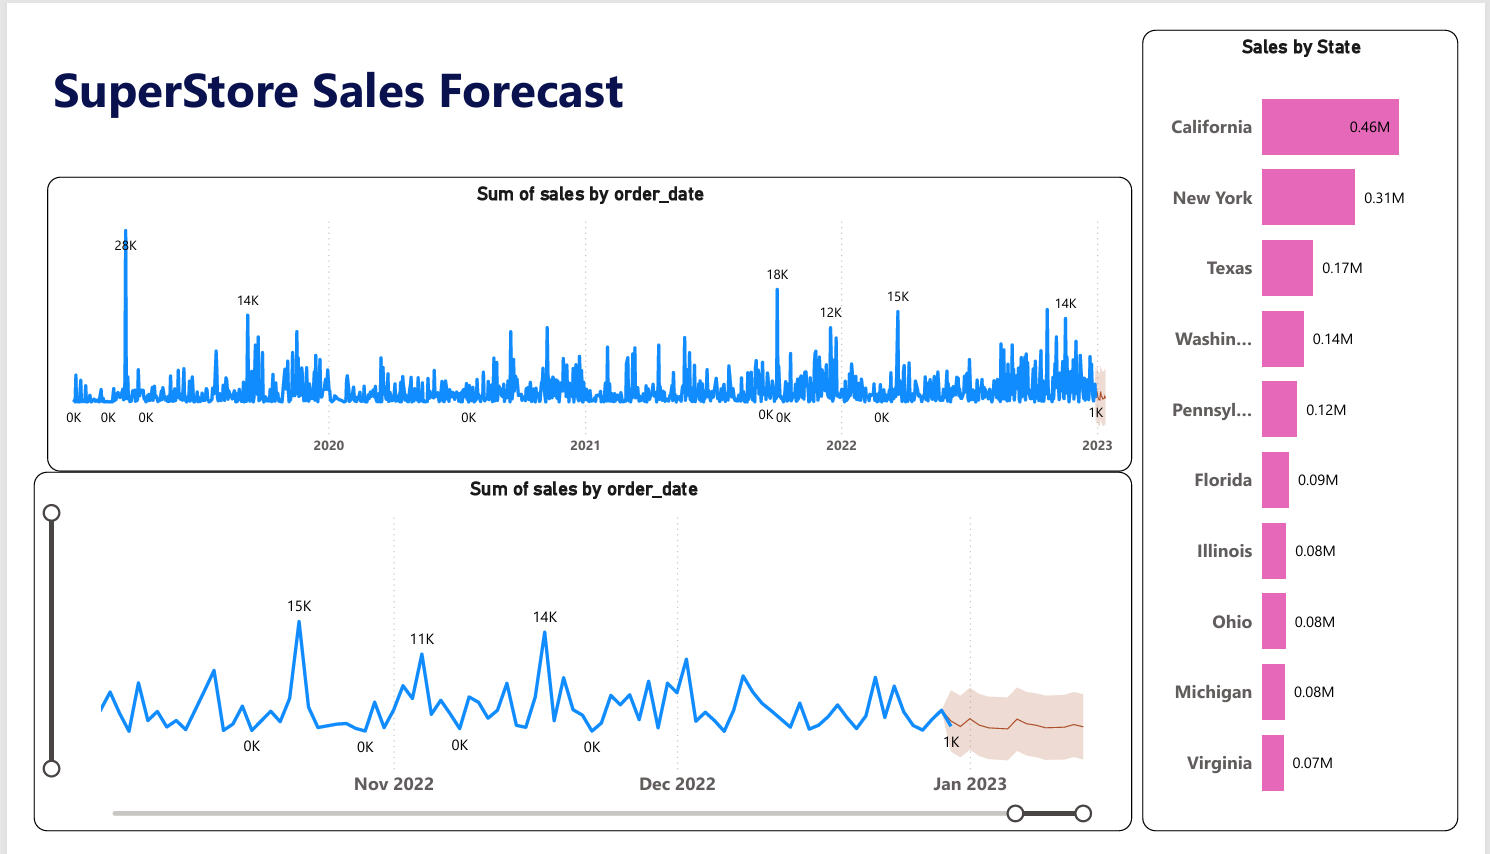

What the dashboard file says about the page in this screenshot:
{"tool":"powerbi","page":{"name":"Page 2","canvas":[1280,720],"ordinal":1},"visuals":[{"type":"lineChart","fields":{"Y":["Sum(superstore sales dataset.sales)"],"Category":["superstore sales dataset.order_date"]},"box":[12.3,131.7,974.3,264.8],"z":0},{"type":"lineChart","fields":{"Y":["Sum(superstore sales dataset.sales)"],"Category":["superstore sales dataset.order_date"]},"box":[0,396.6,986.6,323.8],"z":1000},{"type":"clusteredBarChart","title":"Sales by State","fields":{"Category":["superstore sales dataset.state"],"Y":["Sum(superstore sales dataset.sales)"]},"box":[996.2,0,284,720.4],"z":2000},{"type":"textbox","box":[12.3,17.8,946.8,83.7],"z":3000}]}

Visuals, with their boxes in screenshot pixels (x1, y1, x2, y2), scaled from the page's 1280x720 canvas onto the 1490x854 screenshot:
lineChart - Sum(superstore sales dataset.sales) x superstore sales dataset.order_date: [left=14, top=156, right=1148, bottom=470]
lineChart - Sum(superstore sales dataset.sales) x superstore sales dataset.order_date: [left=0, top=470, right=1148, bottom=853]
"Sales by State" clusteredBarChart: [left=1160, top=0, right=1489, bottom=853]
textbox: [left=14, top=21, right=1116, bottom=120]
